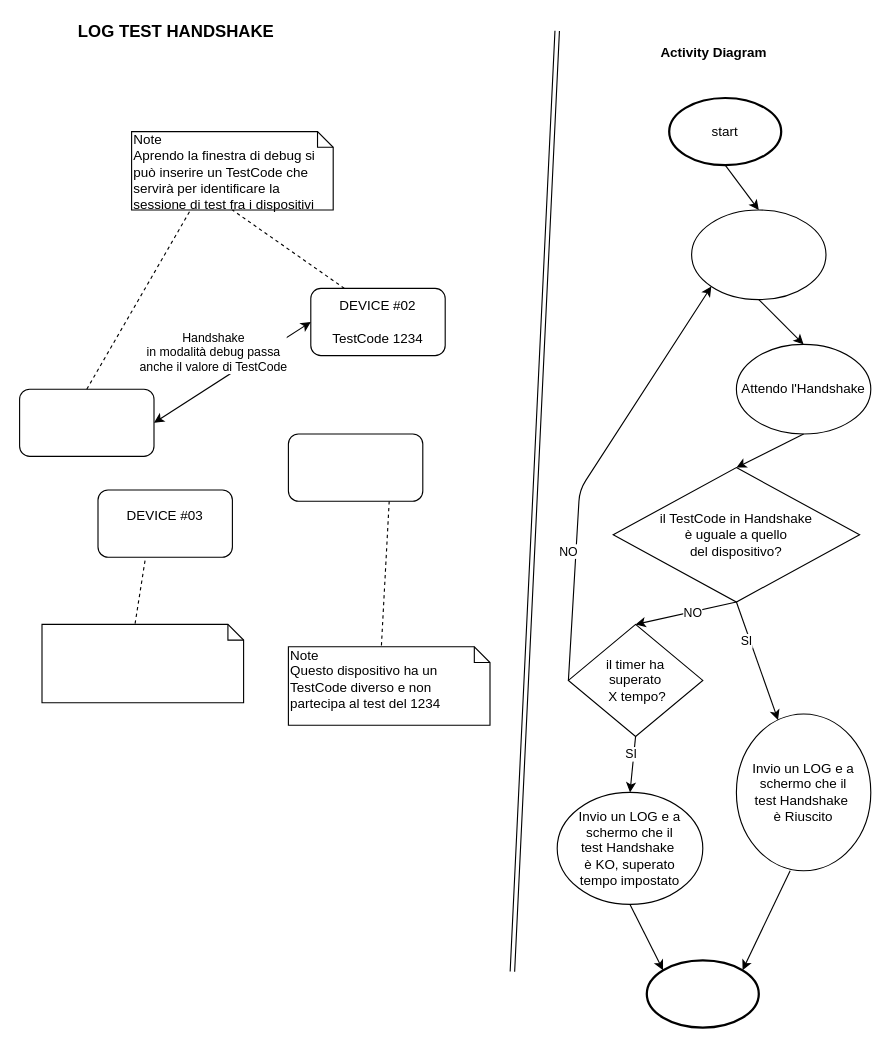
Image size: 890x1047. Some labels were removed from this diagram. Each missing label, with the box of its shape:
DEVICE #01 TestCode 1234: (18, 388, 154, 456)
DEVICE #02 TestCode 9999: (287, 433, 423, 501)
end: (645, 959, 759, 1028)
Faccio partire un timer alla pressione del bottone INIZIO TEST: (690, 209, 826, 300)
Note Questo dispositivo non ha un TestCode, non partecipa al test: (41, 623, 244, 703)
